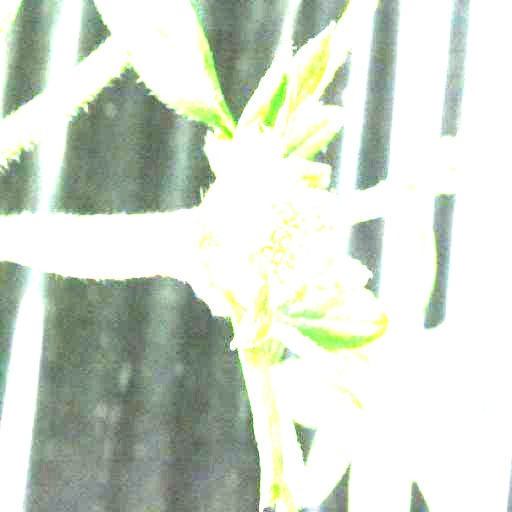Gray Mold: (257, 174, 337, 311)
